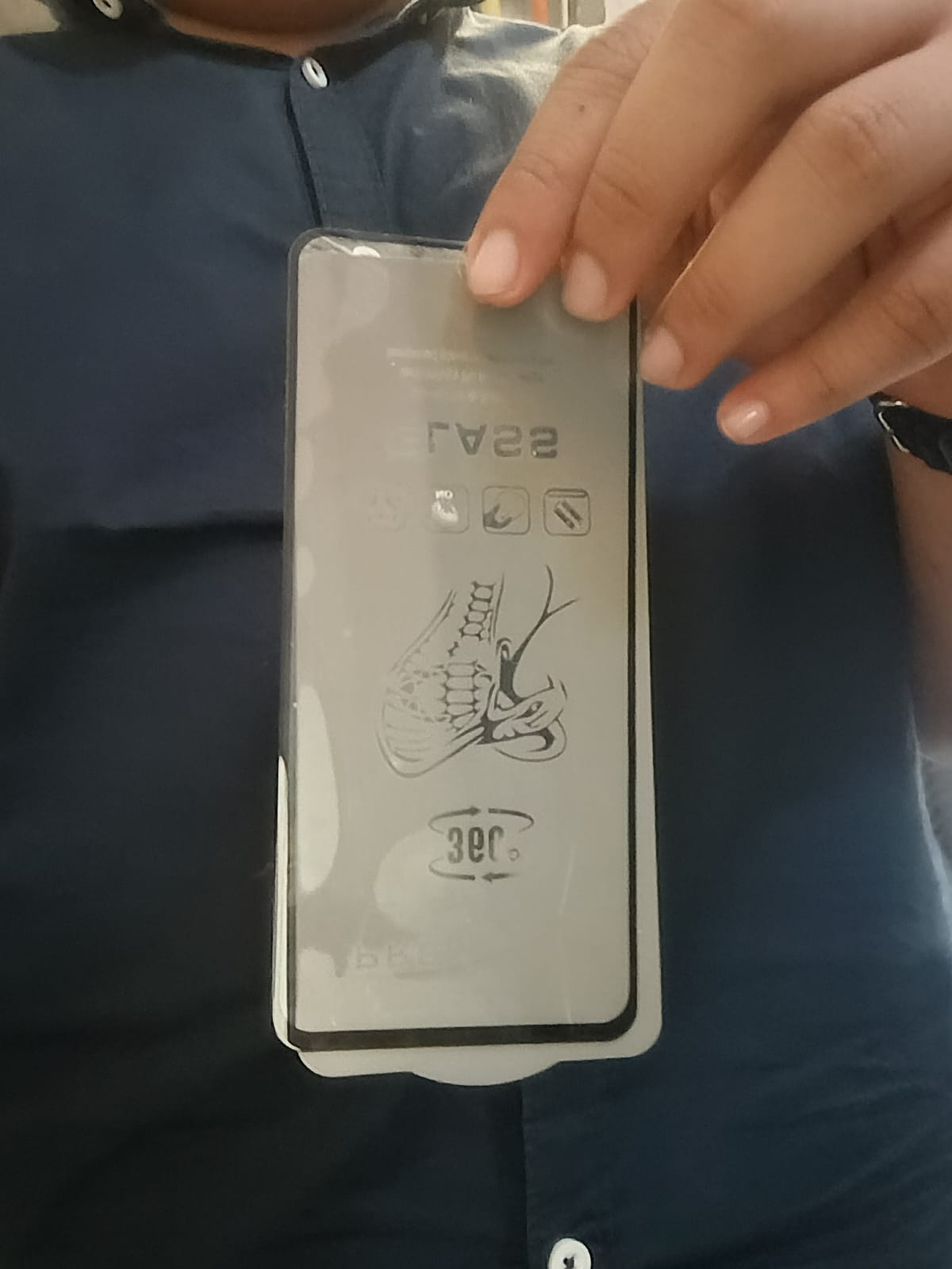Ordinario: (269, 219, 669, 1087)
